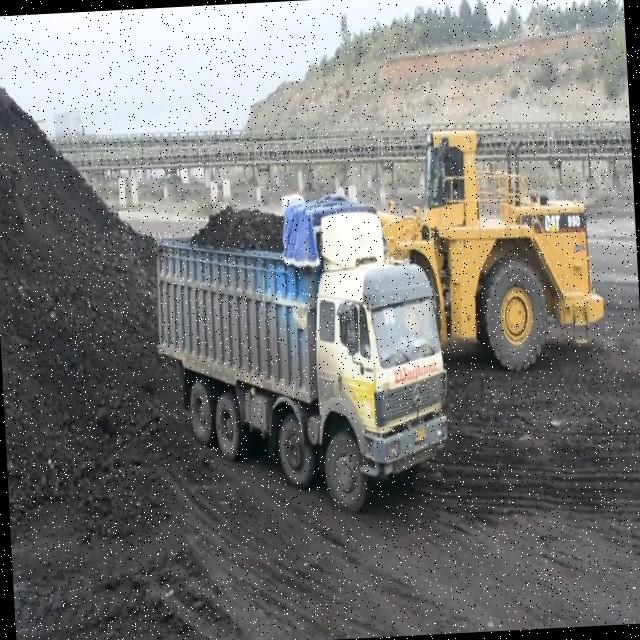Dump Truck: (142, 156, 453, 522)
Loader: (377, 115, 610, 381)
